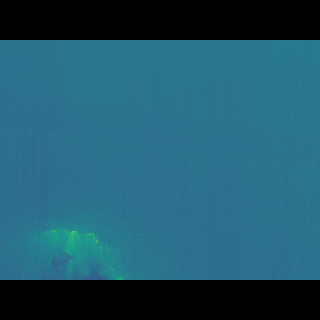Loch: (14, 167, 151, 250)
